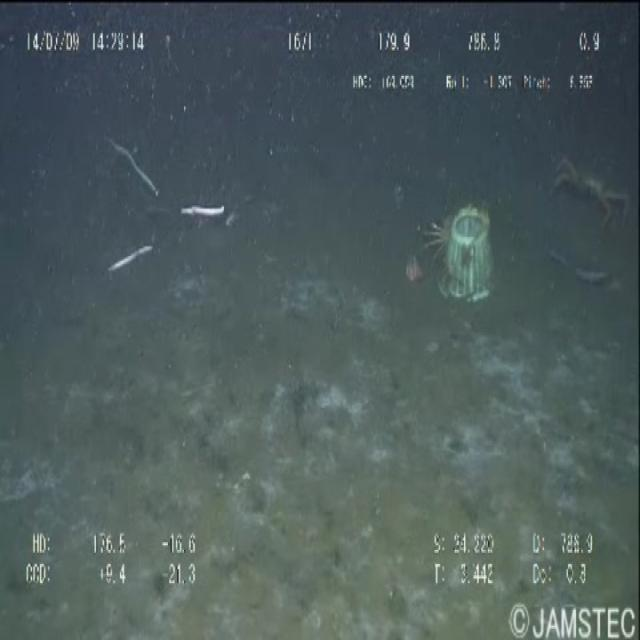Cutlery: (438, 191, 502, 309)
